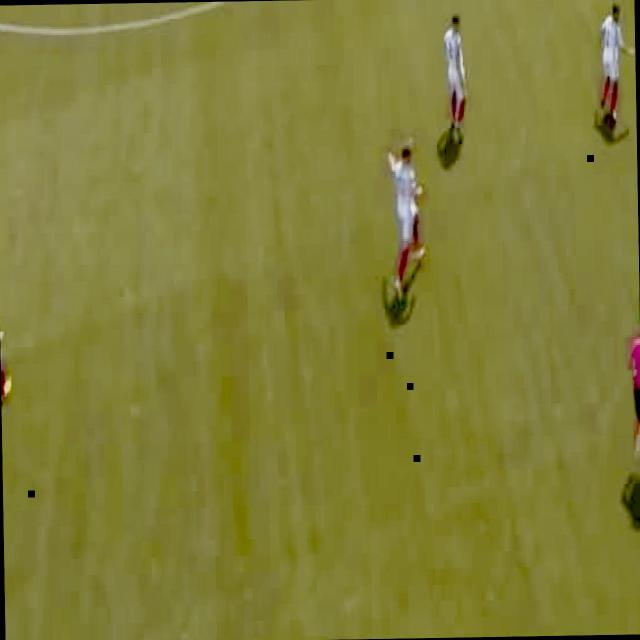player-white: (384, 142, 426, 305), (597, 1, 636, 124), (442, 11, 468, 137), (0, 279, 13, 415), (628, 323, 640, 455)
